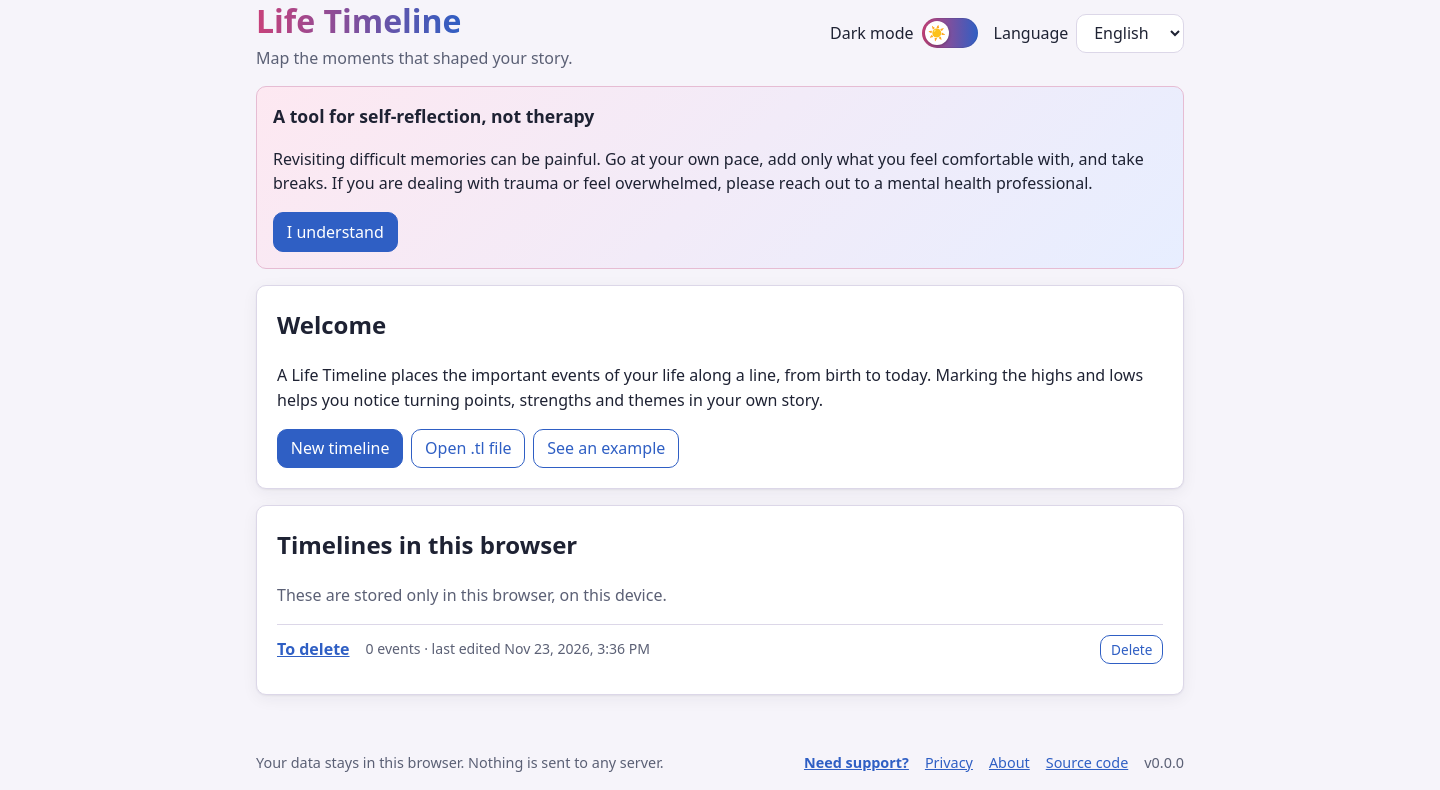
Test: App › deletes all data from the Privacy page
Click the button "Privacy". click: (949, 763)
box: [925,752,973,774]
(page scrolled)
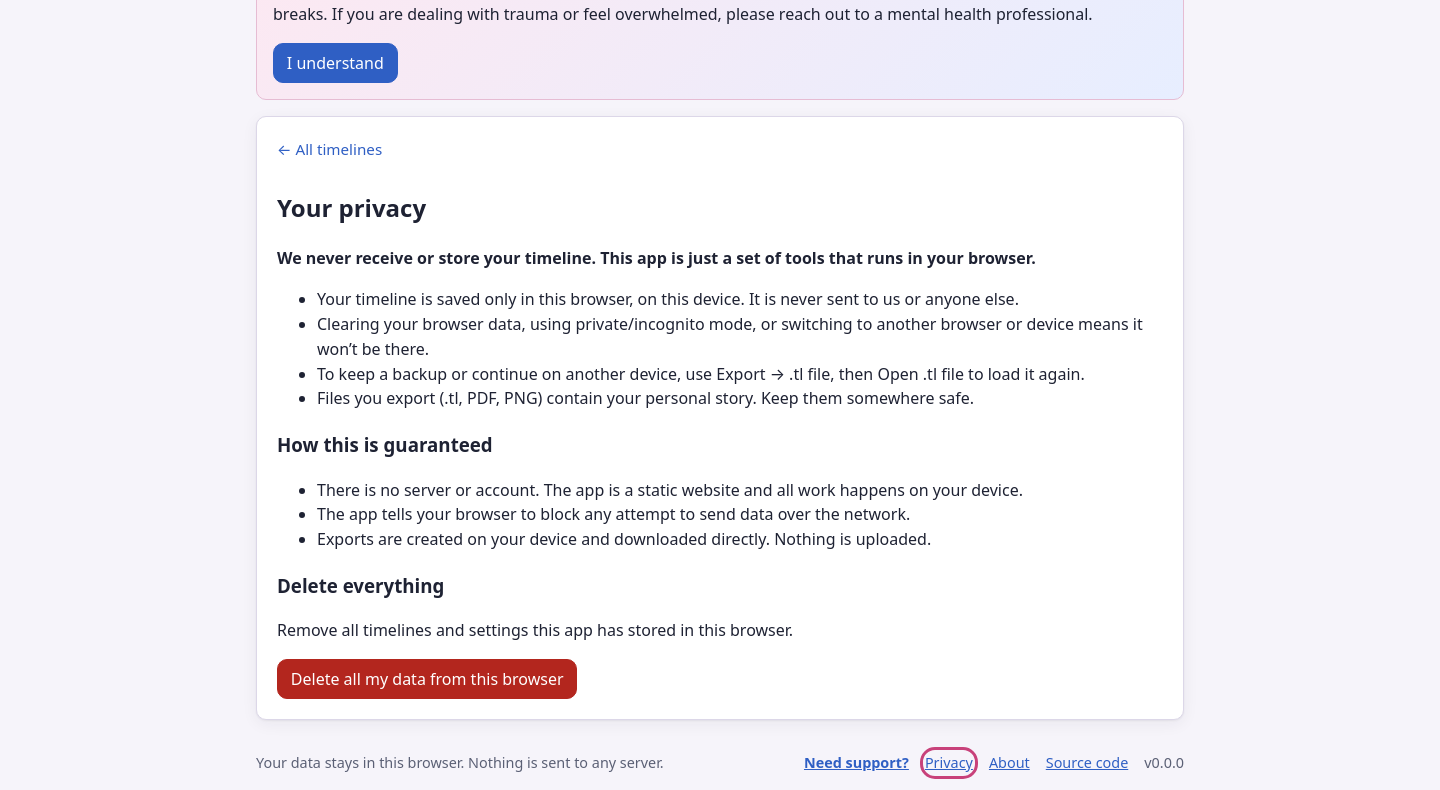
Click the button "Delete all my data from this browser". click: (427, 679)
box: [277,659,577,699]
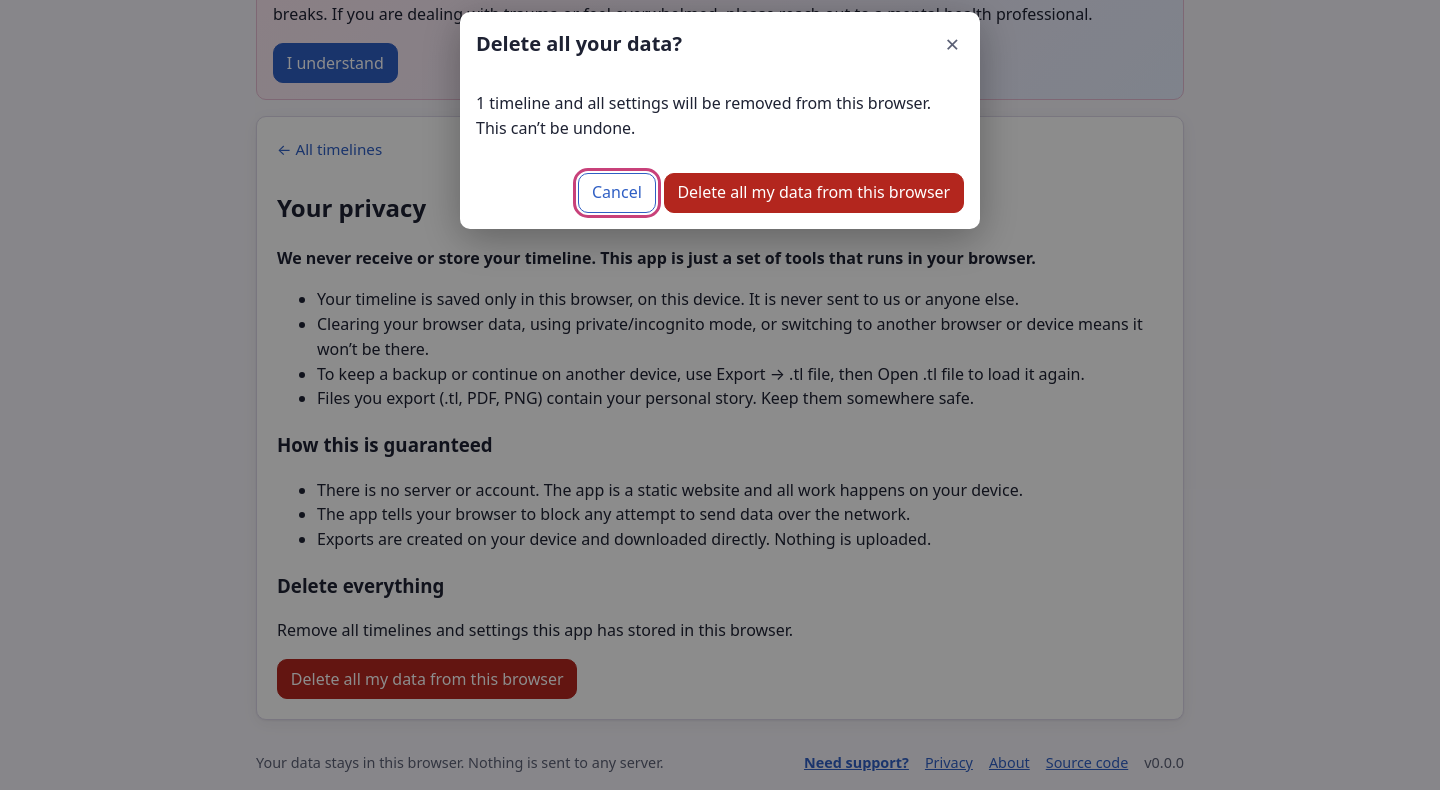
Click the button "Delete all my data from this browser" below "Delete all your data?". click: (814, 193)
box: [664,173,964,213]
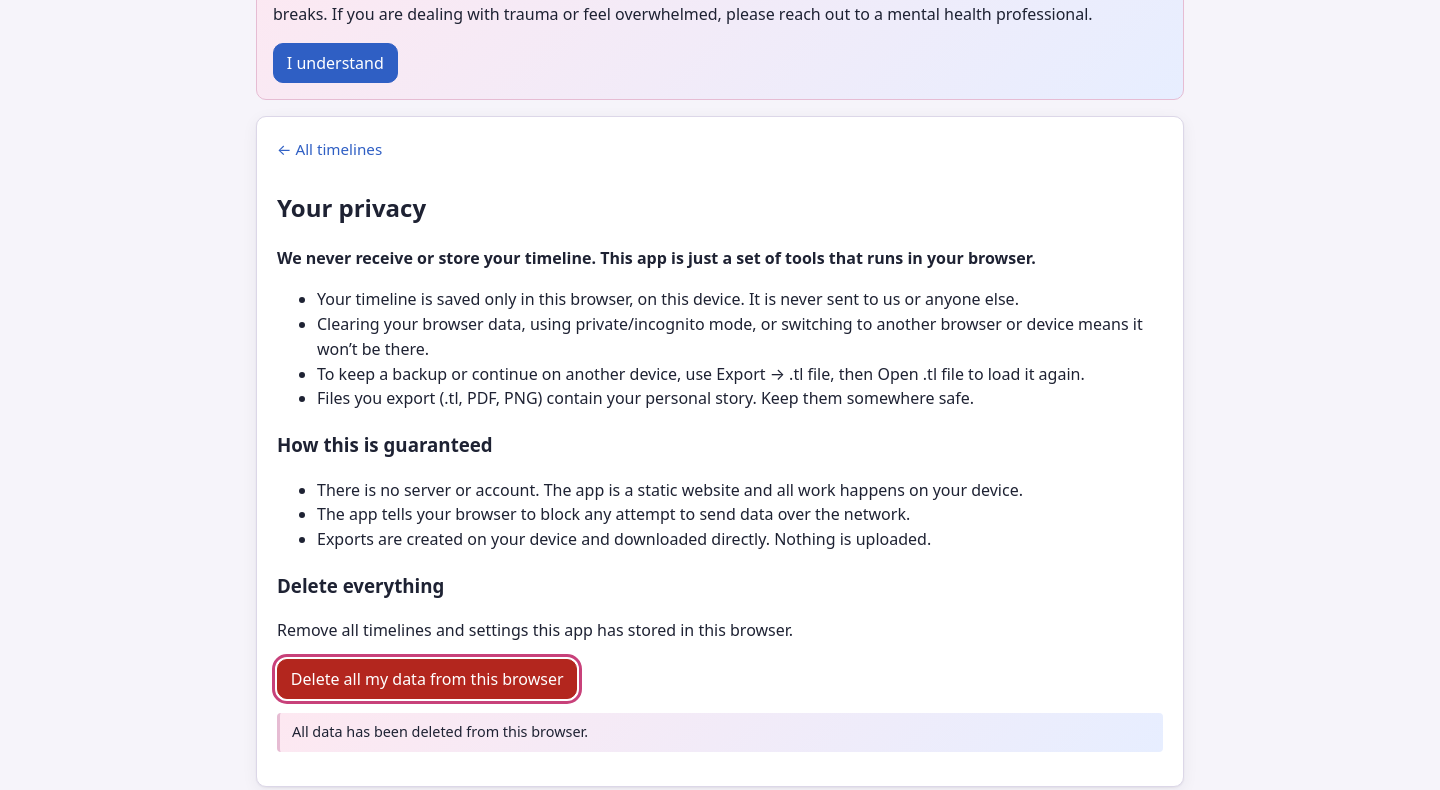
Now the text "All data has been deleted from this browser." is shown, box [277,713,1163,752]
